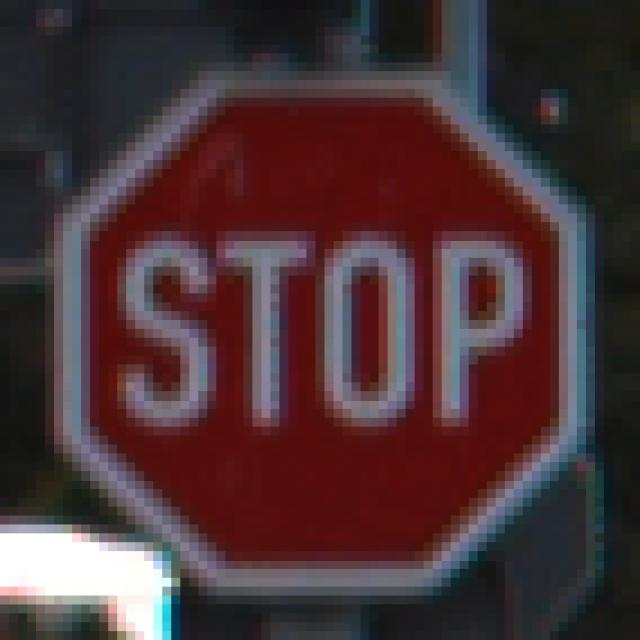STOP: (55, 63, 587, 588)
